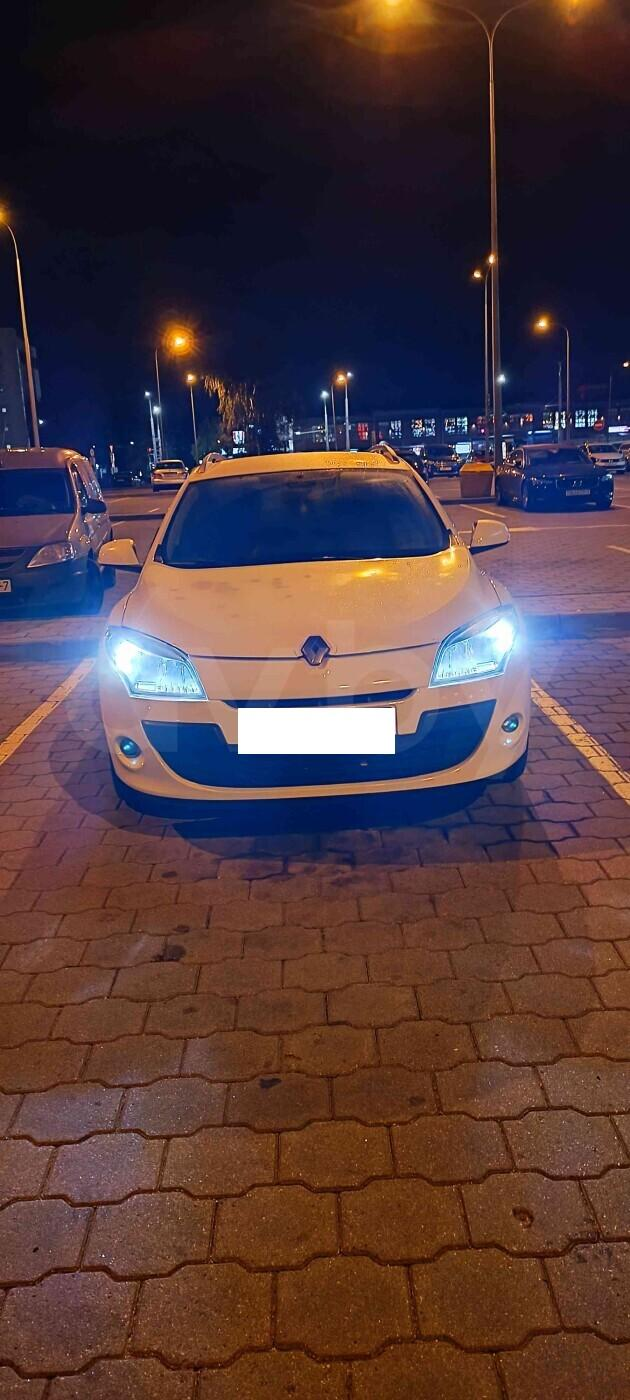Megane_2008-2014: (100, 446, 546, 840)
